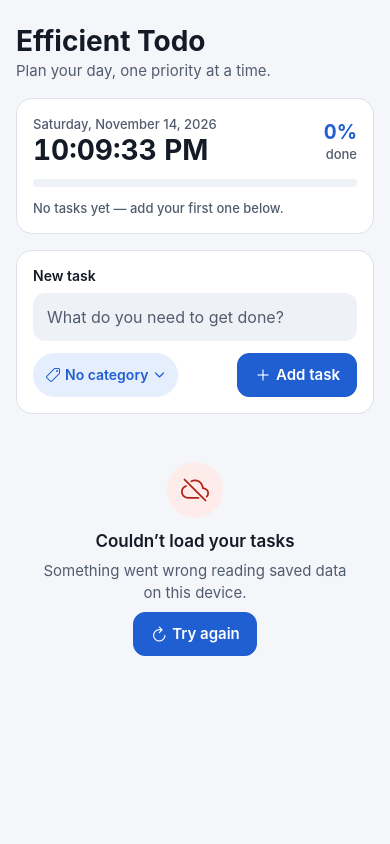
App › shows an error state with retry when storage fails
Expected: the text "Couldn’t load your tasks" is shown, [95,530,294,552]
Click the button "Try again". click: (195, 634)
box: [133,612,257,656]
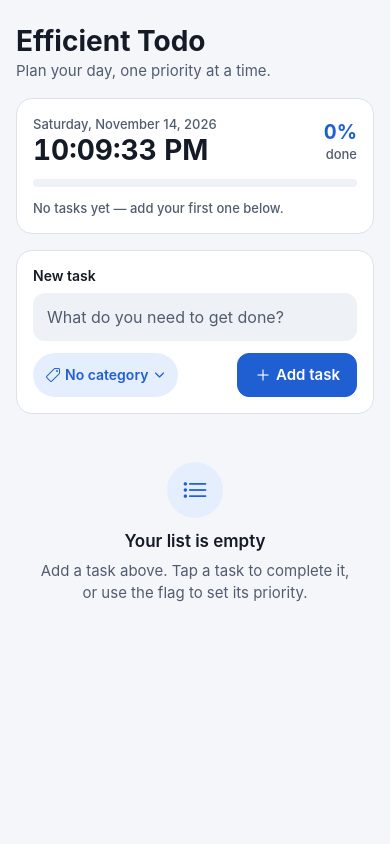
Now the text "Your list is empty" is shown, box [124,530,266,552]
